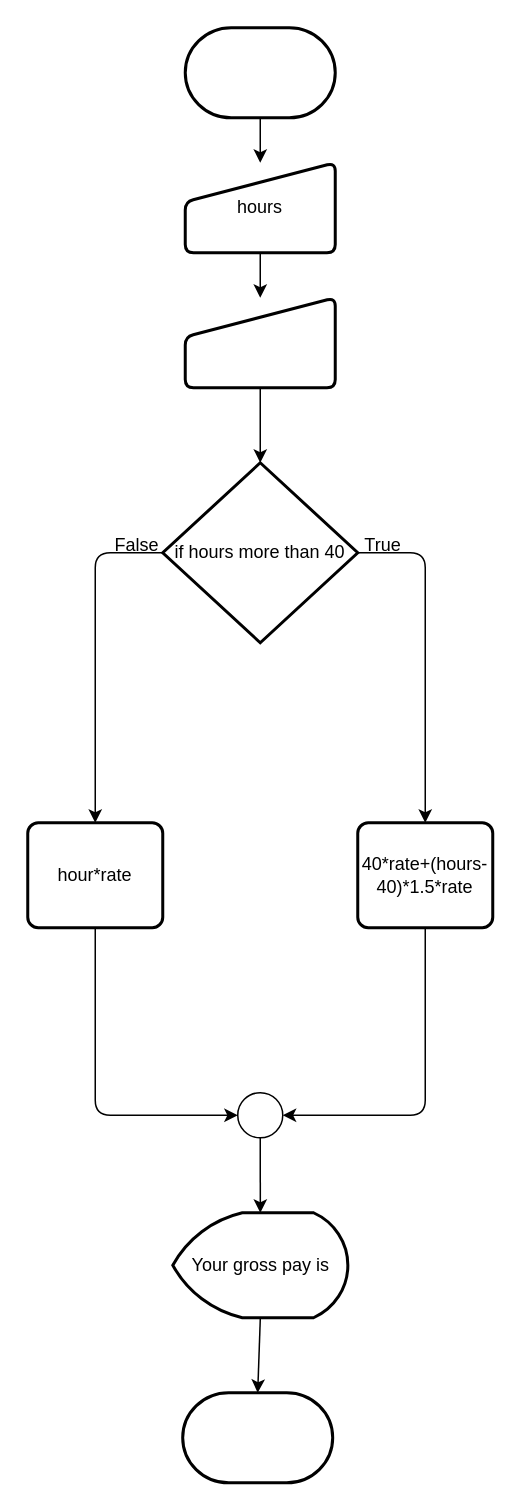
This 519x1509 diagram has some shape labels left out. Here are the shapes that lost their labels. From the top down, the centre of each, then its label:
At point 259,72: "Start".
At point 259,342: "pay rate".
At point 256,1437: "End".
